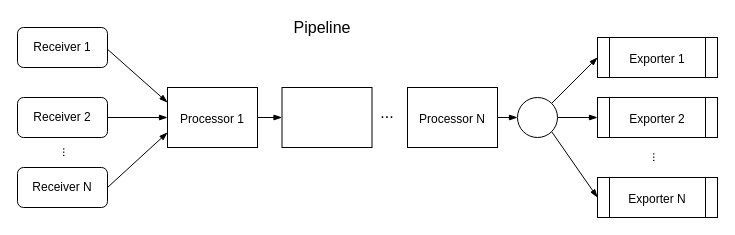
Some shapes in this 735 by 235 pixel diagram are drawn without their labels. The shapes that lost their labels are listed below. From the top down, each one's box as (x1, y1, x2, y2) in pixels, then its label:
(281, 86, 372, 148): Processor 2
(516, 96, 558, 138): fan out
